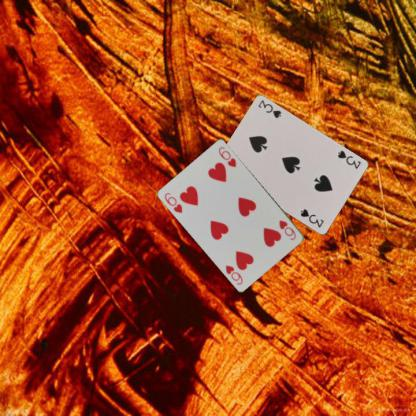3s: (334, 148, 362, 170)
6h: (276, 217, 298, 242), (162, 190, 184, 214)
